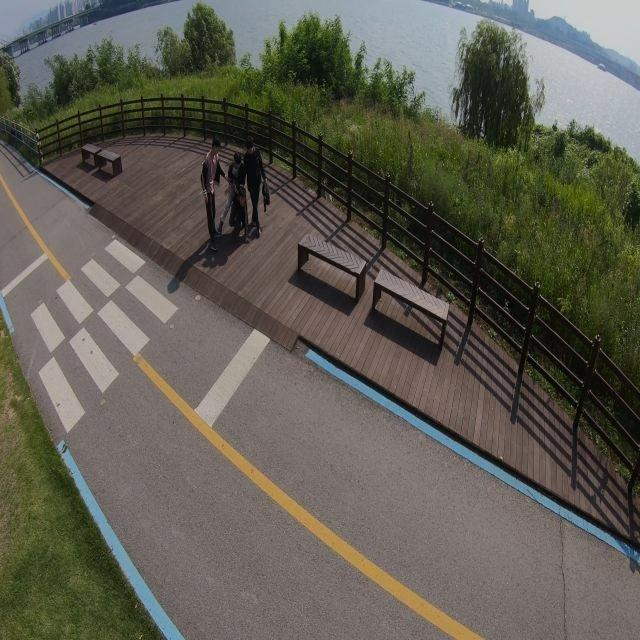fight: (219, 139, 267, 243)
